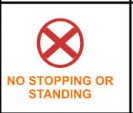Traffic signal: (35, 18, 86, 69)
